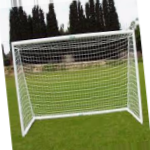goals: (10, 28, 145, 137)
